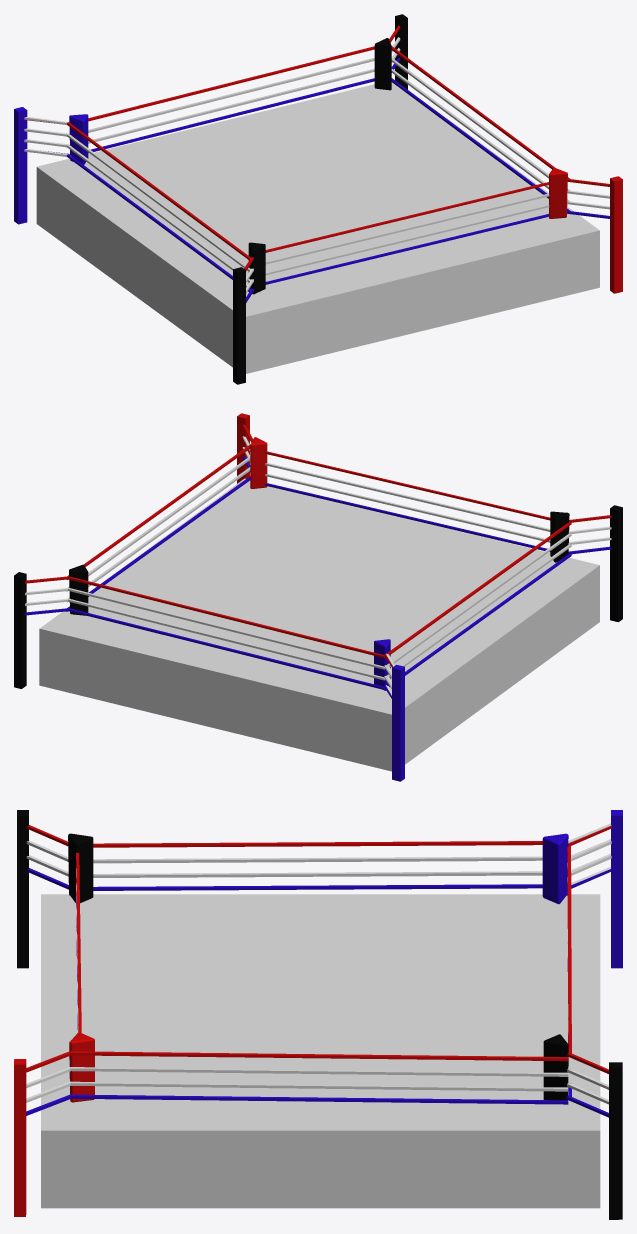
File: boxing_ring.FBX
3 views of the same model, one above another, from view 1: azimuth 30°, elevation 25°; view 2: azimuth 150°, elevation 25°; view 3: azimuth 270°, elevation 25° (orthographic). The views are drawn at different scales.
Parts seen in each view (by area): view 1: wCanvas, Holder1, Holder005, Holder002, Box024, Box023, Box022, Box021, Box035, Box033, Box034, Box036 (+13 smaller); view 2: wCanvas, Holder1, Holder002, Holder004, Box022, Box021, Box024, Box023, Box033, Box036, Box035, Box034 (+13 smaller); view 3: wCanvas, Box026, Box028, Box027, Box025, Holder004, Box004, Box001, Box003, Box002, Holder005, Holder1 (+7 smaller).
Part boxes in pixels (x1,y1,x2,y2): wCanvas: [36, 82, 599, 373]; Holder1: [14, 107, 27, 224]; Holder005: [610, 176, 622, 293]; Holder002: [233, 267, 245, 384]; Box024: [88, 46, 374, 121]; Box023: [88, 58, 374, 132]; Box022: [88, 68, 374, 143]; Box021: [88, 78, 374, 153]; Box035: [265, 214, 549, 284]; Box033: [265, 193, 549, 264]; Box034: [265, 204, 549, 275]; Box036: [265, 182, 549, 252]; wCanvas: [39, 478, 599, 771]; Holder1: [392, 664, 404, 781]; Holder002: [610, 505, 622, 622]; Holder004: [14, 572, 26, 688]; Box022: [68, 598, 385, 680]; Box021: [68, 608, 385, 689]; Box024: [68, 576, 385, 658]; Box023: [68, 588, 385, 669]; Box033: [265, 463, 550, 531]; Box036: [265, 451, 550, 520]; Box035: [265, 483, 550, 552]; Box034: [265, 473, 550, 542]; wCanvas: [41, 894, 600, 1208]; Box026: [70, 1067, 568, 1076]; Box028: [70, 1094, 568, 1104]; Box027: [70, 1081, 568, 1091]; Box025: [70, 1051, 568, 1061]; Holder004: [609, 1062, 622, 1219]; Box004: [93, 884, 542, 890]; Box001: [93, 841, 542, 847]; Box003: [93, 871, 542, 877]; Box002: [93, 856, 542, 863]; Holder005: [14, 1059, 26, 1216]; Holder1: [611, 810, 622, 968].
Bounding box in the file's own units: 12799 × 3534 × 12802.
